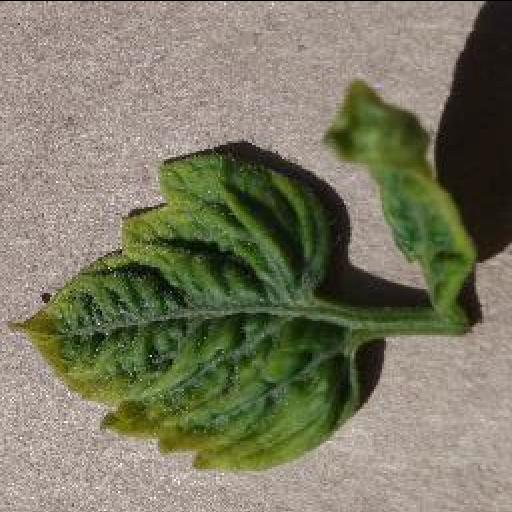disease_tomato: (10, 150, 360, 468)
